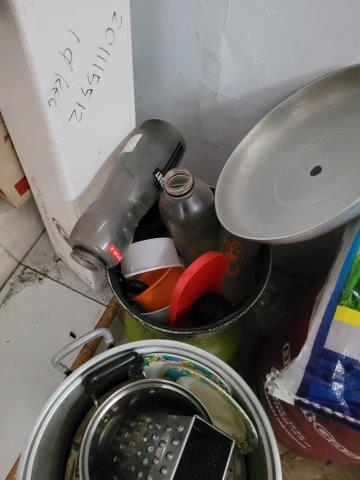botolplastik: (161, 168, 215, 258)
